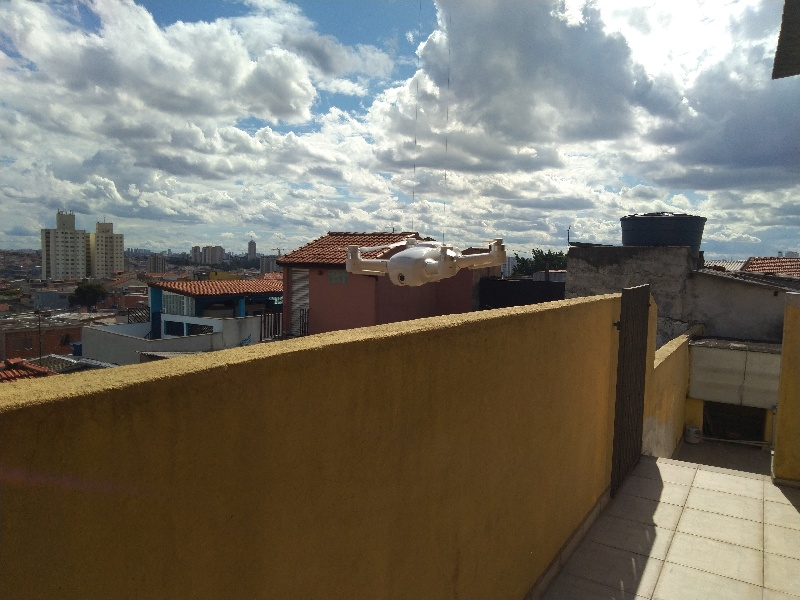drone: (342, 223, 513, 294)
